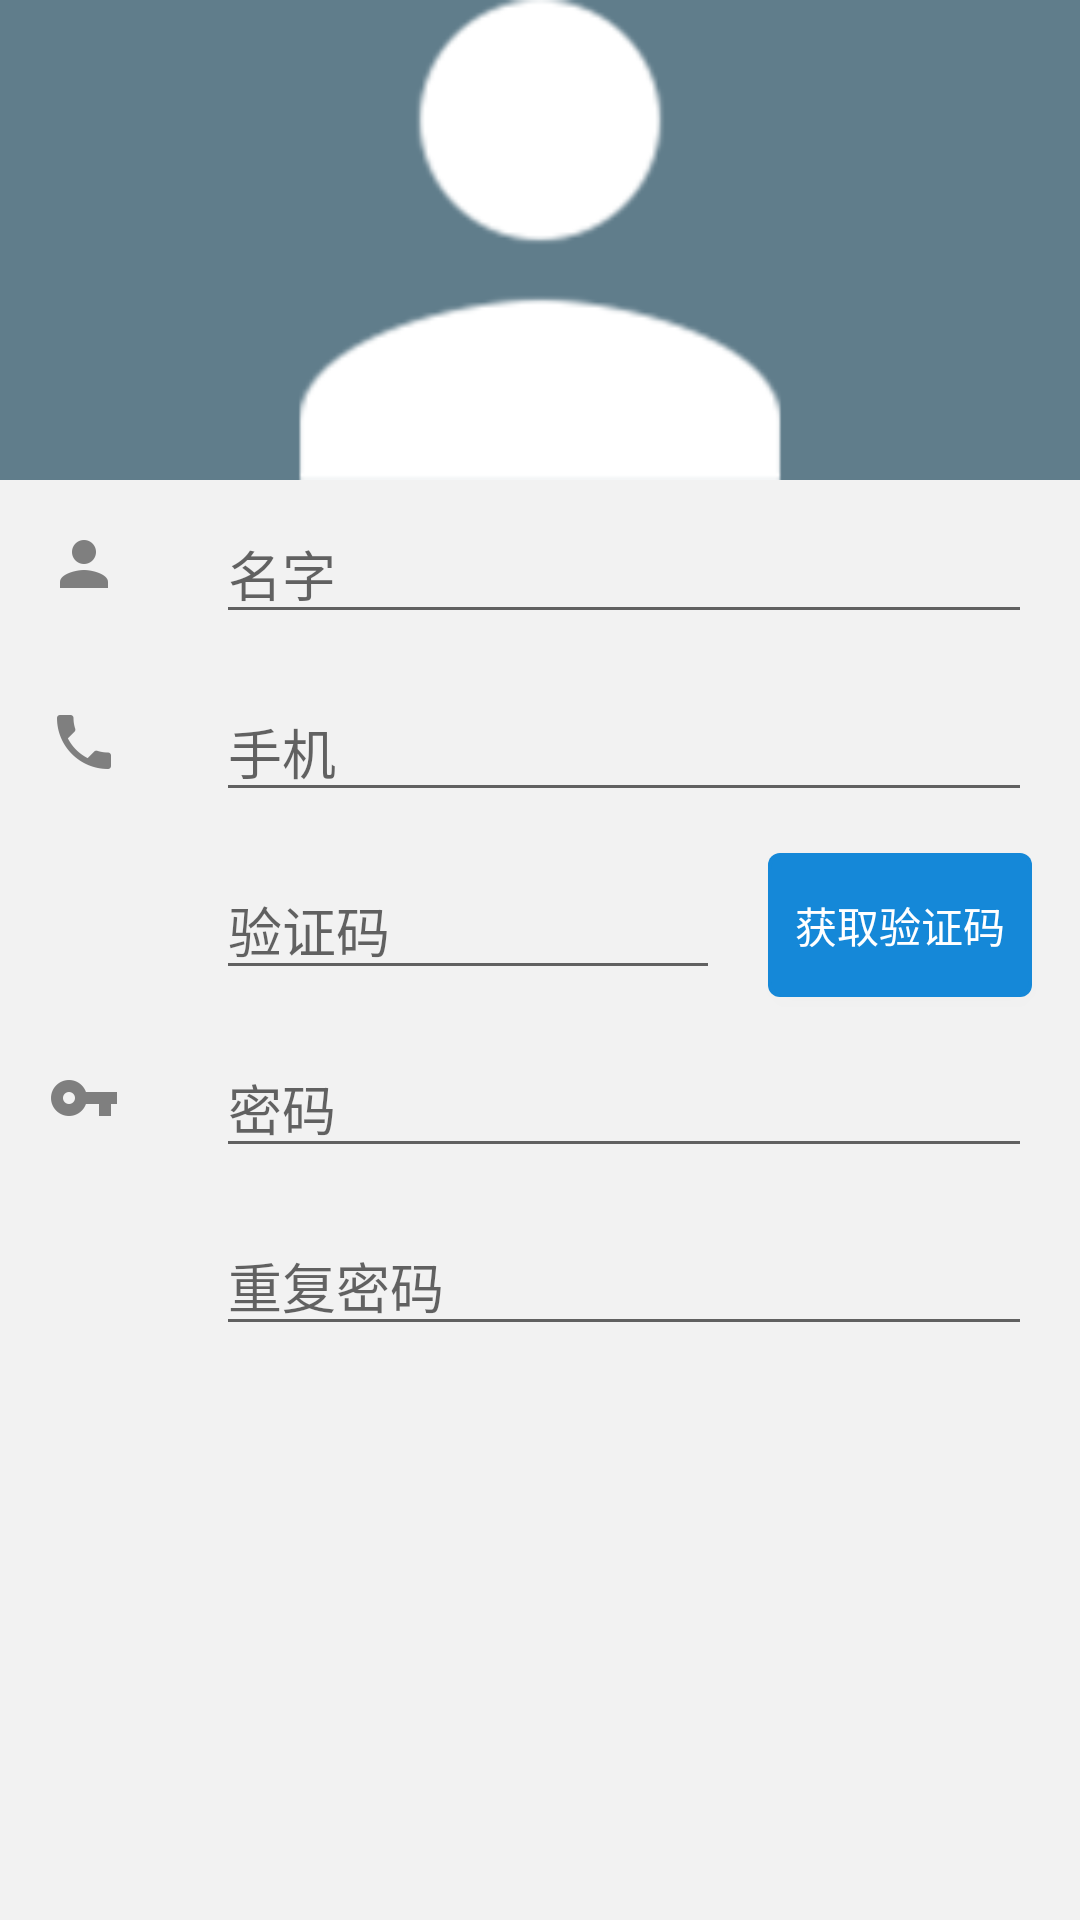

Where icons sit on this 1080w x 1920h app screen, as [left=x1, top=y1, right=x2, bottom=y2]:
password: [left=51, top=1080, right=117, bottom=1116]
phone: [left=57, top=715, right=111, bottom=769]
